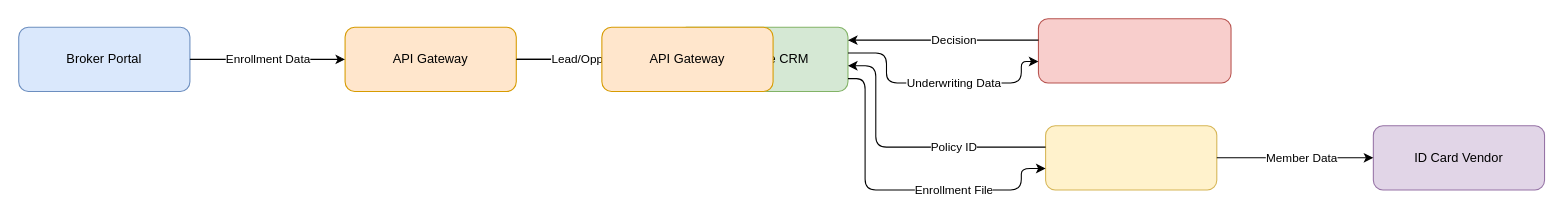
This 1563x217 diagram has some shape labels left out. The shapes that lost their labels are listed below. From the top down, each one's centre as x and y in pixels, then its label:
At [1134,50]: "Underwriting Engine".
At [1131,157]: "Billing System".
